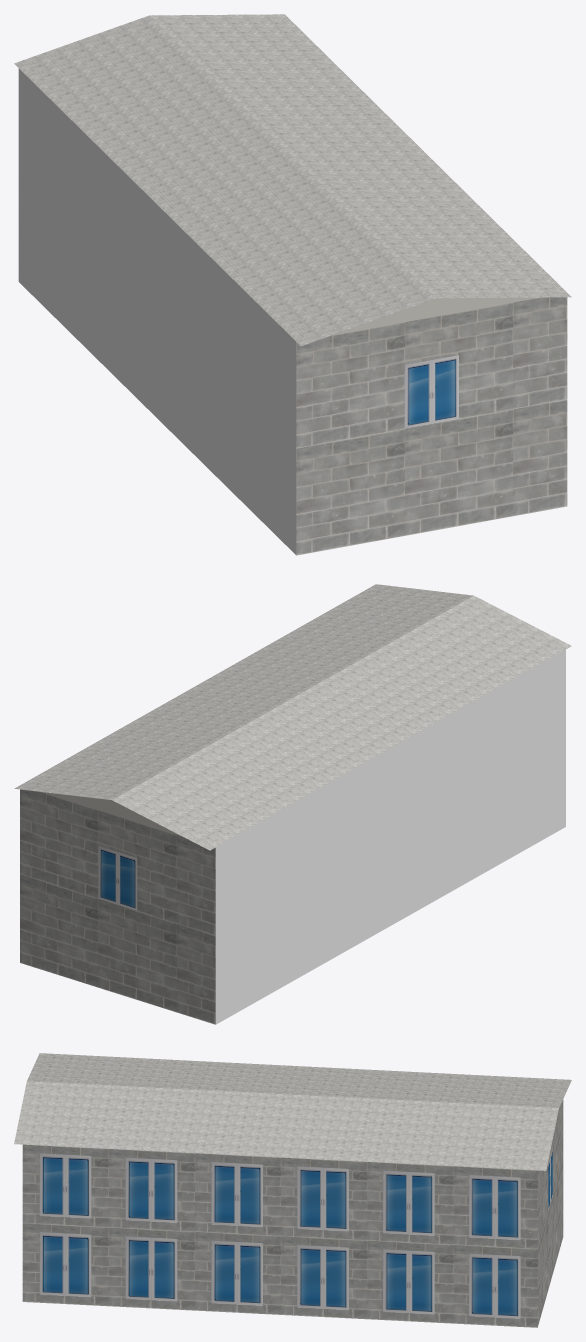
The model's file is unknow2.fbx.
The picture shows the model from 3 angles, top to bottom: view 1: azimuth 30°, elevation 25°; view 2: azimuth 150°, elevation 25°; view 3: azimuth 270°, elevation 25°; orthographic projection. The views are drawn at different scales.
Parts seen in each view (by area): view 1: CityEngineShapeMaterial_1_m, CityEngineShapeMaterial_m, CityEngineShapeMaterial_2_m; view 2: CityEngineShapeMaterial_1_m, CityEngineShapeMaterial_m, CityEngineShapeMaterial_2_m; view 3: CityEngineShapeMaterial_1_m, CityEngineShapeMaterial_2_m.
Boxes of the visible parts, x1=… form: CityEngineShapeMaterial_1_m: x1=14, y1=14, x2=571, y2=555; CityEngineShapeMaterial_m: x1=18, y1=68, x2=296, y2=554; CityEngineShapeMaterial_2_m: x1=404, y1=355, x2=458, y2=428; CityEngineShapeMaterial_1_m: x1=14, y1=584, x2=571, y2=1024; CityEngineShapeMaterial_m: x1=215, y1=649, x2=565, y2=1024; CityEngineShapeMaterial_2_m: x1=98, y1=846, x2=137, y2=910; CityEngineShapeMaterial_1_m: x1=14, y1=1053, x2=571, y2=1327; CityEngineShapeMaterial_2_m: x1=39, y1=1148, x2=552, y2=1318.
Size of the model in its own units: 16.06 by 11.1 by 32.14.
